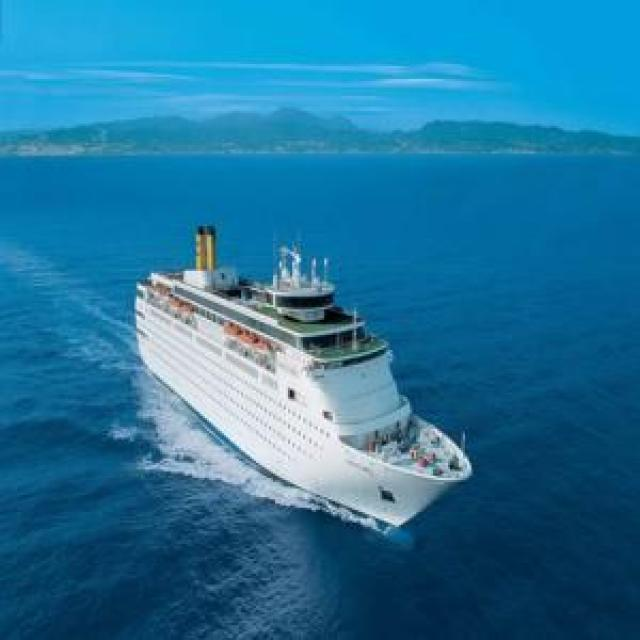passenger ship: (132, 222, 474, 536)
